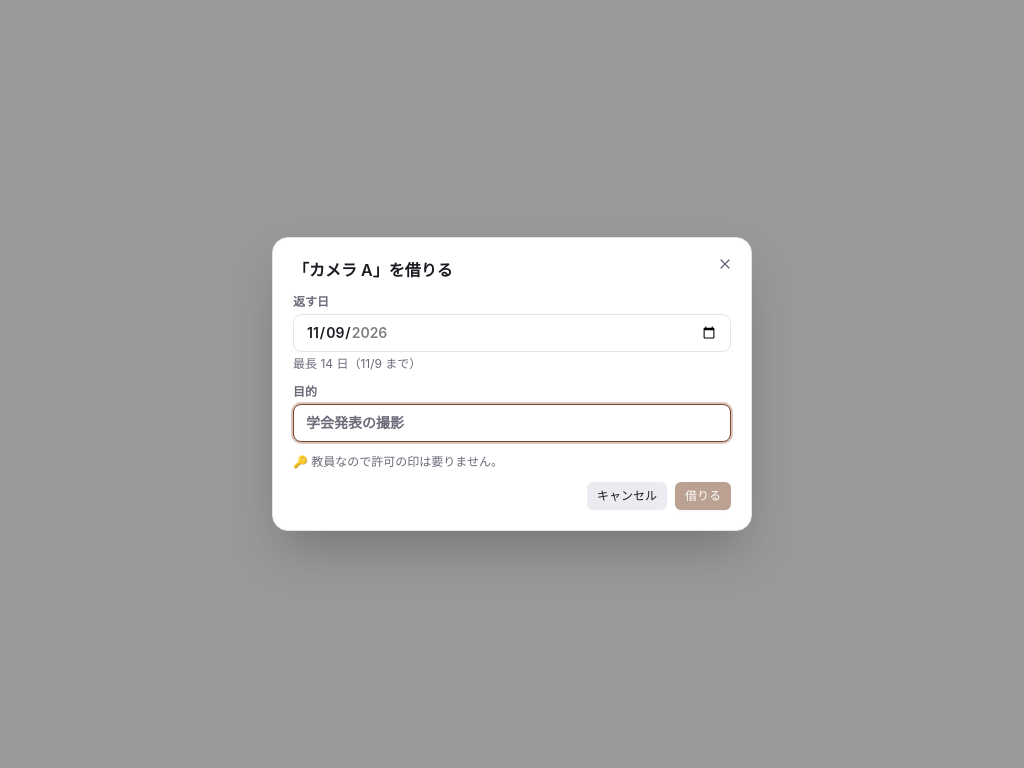
Test case: the borrow dialog › a teacher of @faculty borrows without the tick
Expected: the text "🔑 教員なので許可の印は要りません。" is shown, [293, 454, 503, 469]
In the field labelled "目的": coordinates (512, 423) [293, 404, 731, 442], type "撮影"
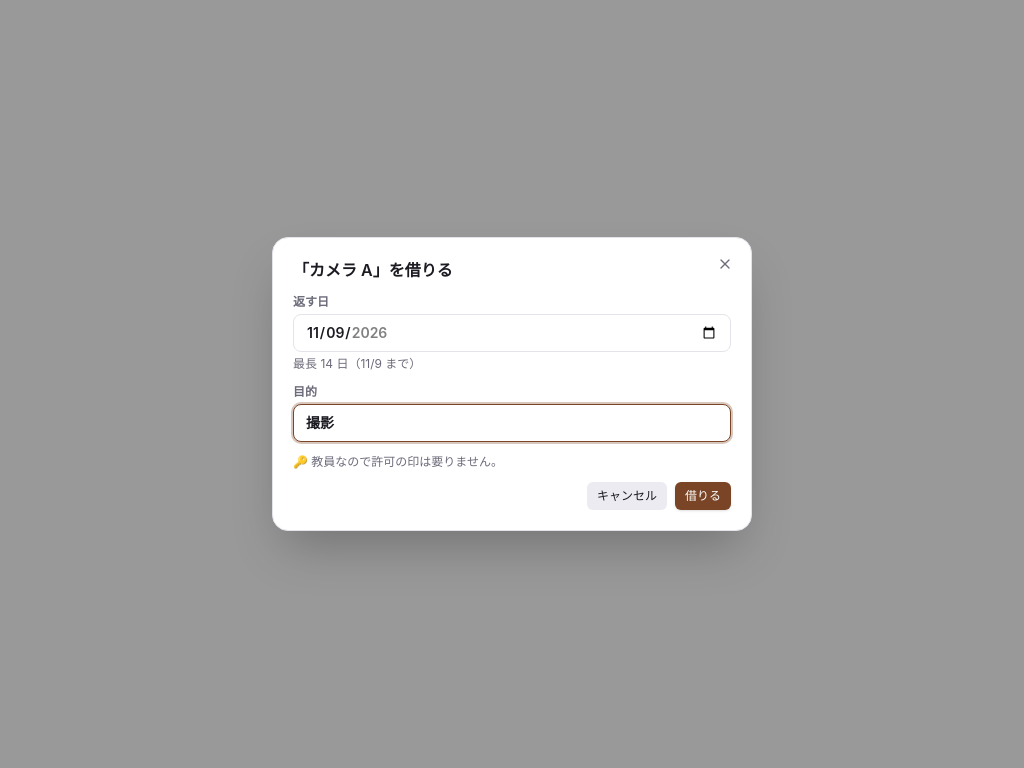
Expected: the button "借りる" is enabled, [675, 482, 731, 510]
